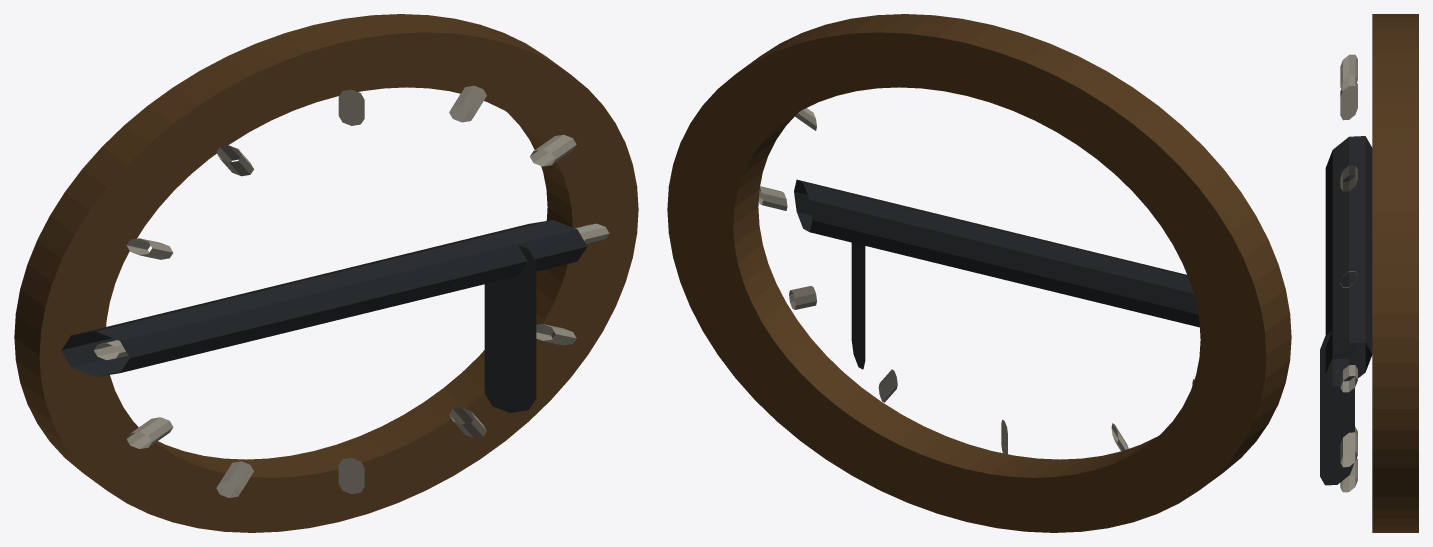
The picture shows the model from 3 angles, left to right: view 1: azimuth 30°, elevation 25°; view 2: azimuth 150°, elevation 25°; view 3: azimuth 270°, elevation 25°; orthographic projection. The views are drawn at different scales.
Parts seen in each view (by area): view 1: RatiborBeltBuckle; view 2: RatiborBeltBuckle; view 3: RatiborBeltBuckle.
Boxes of the visible parts, left/top/right/bottom form: RatiborBeltBuckle: left=14, top=14, right=638, bottom=532; RatiborBeltBuckle: left=667, top=14, right=1291, bottom=532; RatiborBeltBuckle: left=1320, top=14, right=1418, bottom=532.
Bounding box in the file's own units: 0.11 × 0.084 × 0.017.
